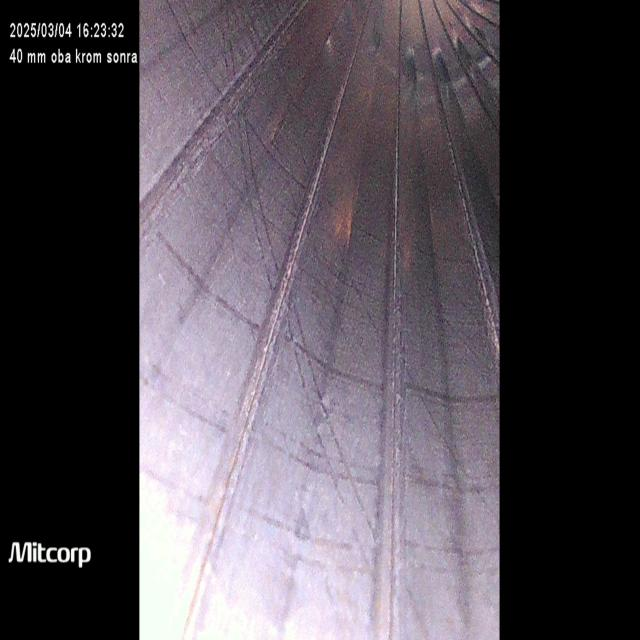hata_8.1: (208, 9, 437, 640), (146, 209, 502, 450), (141, 343, 502, 526), (148, 454, 500, 583)
